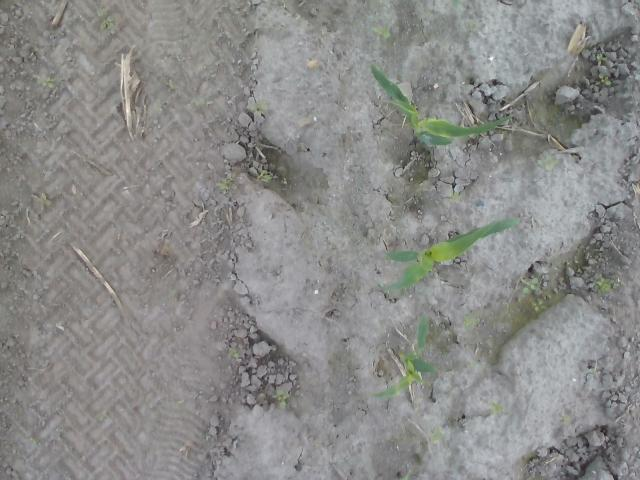Maize: (365, 62, 516, 146), (380, 215, 520, 287), (372, 312, 440, 404)
Weeds: (96, 8, 114, 29), (369, 22, 392, 38), (540, 154, 560, 171), (273, 390, 290, 409), (522, 276, 538, 295), (531, 296, 550, 310), (463, 315, 479, 329), (598, 72, 612, 86), (216, 178, 230, 191), (488, 403, 504, 414), (40, 78, 56, 89), (596, 276, 608, 290), (255, 174, 272, 182), (228, 350, 240, 360), (596, 52, 606, 60)
